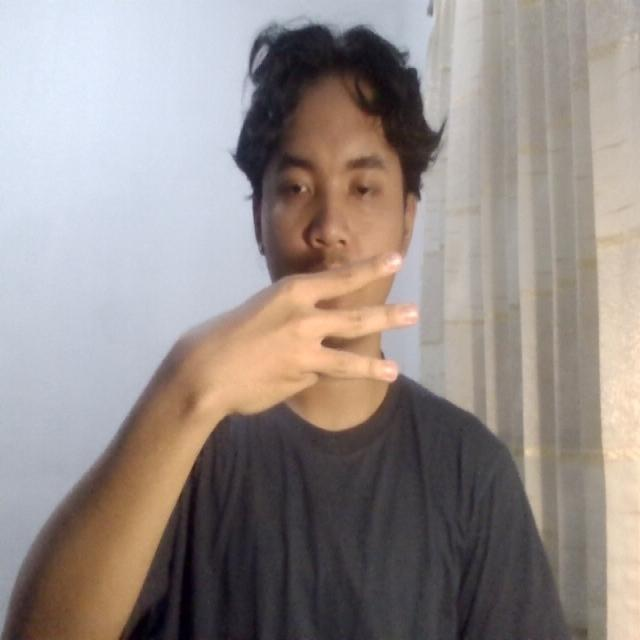E: (212, 235, 432, 441)
